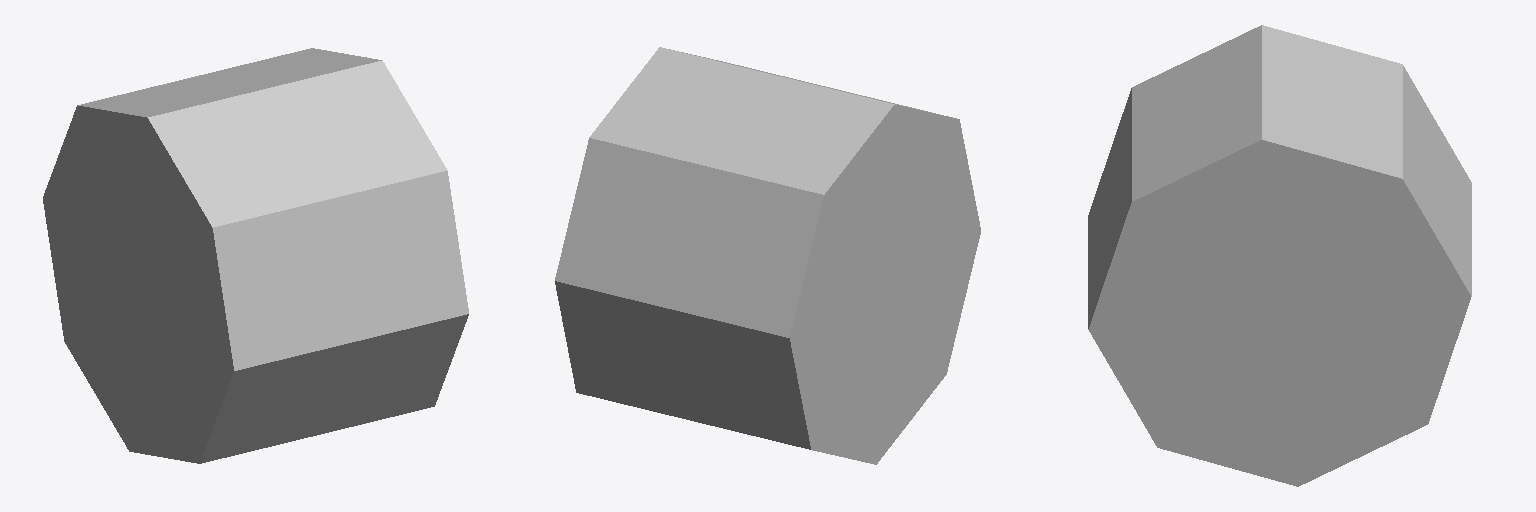
Rendered from GlyphRotation.obj.
3 renders of one model, left to right at view 1: azimuth 30°, elevation 25°; view 2: azimuth 150°, elevation 25°; view 3: azimuth 270°, elevation 25°, orthographic.
Parts seen in each view (by area): view 1: Cylinder; view 2: Cylinder; view 3: Cylinder.
Boxes of the visible parts, x1,y1,x2,y2 form: Cylinder: [43, 48, 468, 463]; Cylinder: [555, 47, 980, 464]; Cylinder: [1088, 25, 1471, 486].
Size of the model in its own units: 0.0705 by 0.0996 by 0.0996.